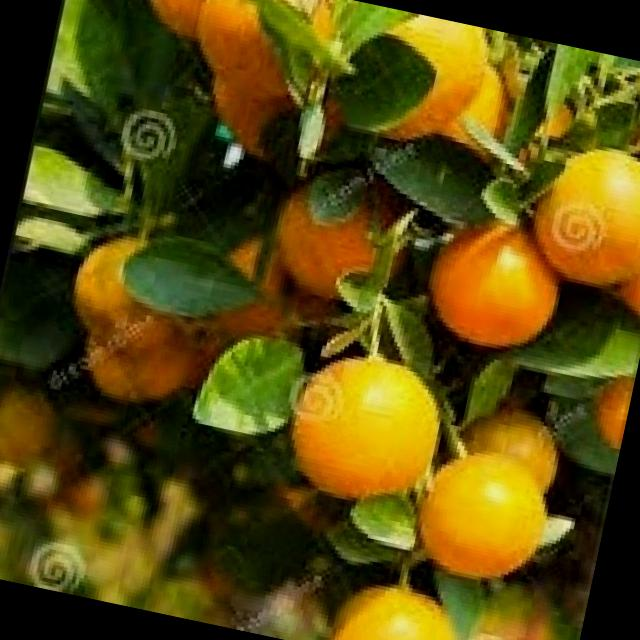Orange: (263, 321, 462, 517), (405, 186, 584, 372), (385, 417, 571, 590), (250, 137, 430, 313), (315, 0, 500, 161), (45, 210, 207, 364), (502, 120, 640, 298), (184, 0, 343, 117), (66, 288, 205, 420), (311, 559, 489, 640), (132, 0, 246, 46)
